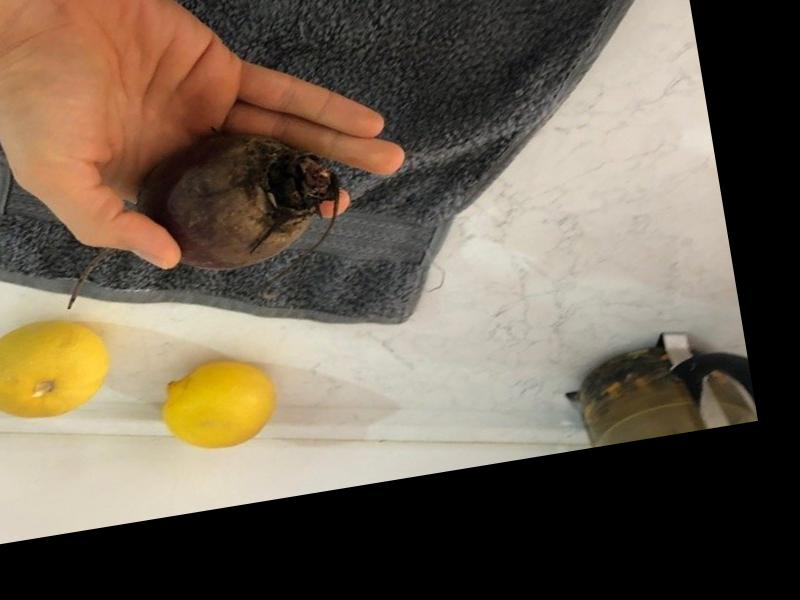Beet: (42, 117, 350, 309)
